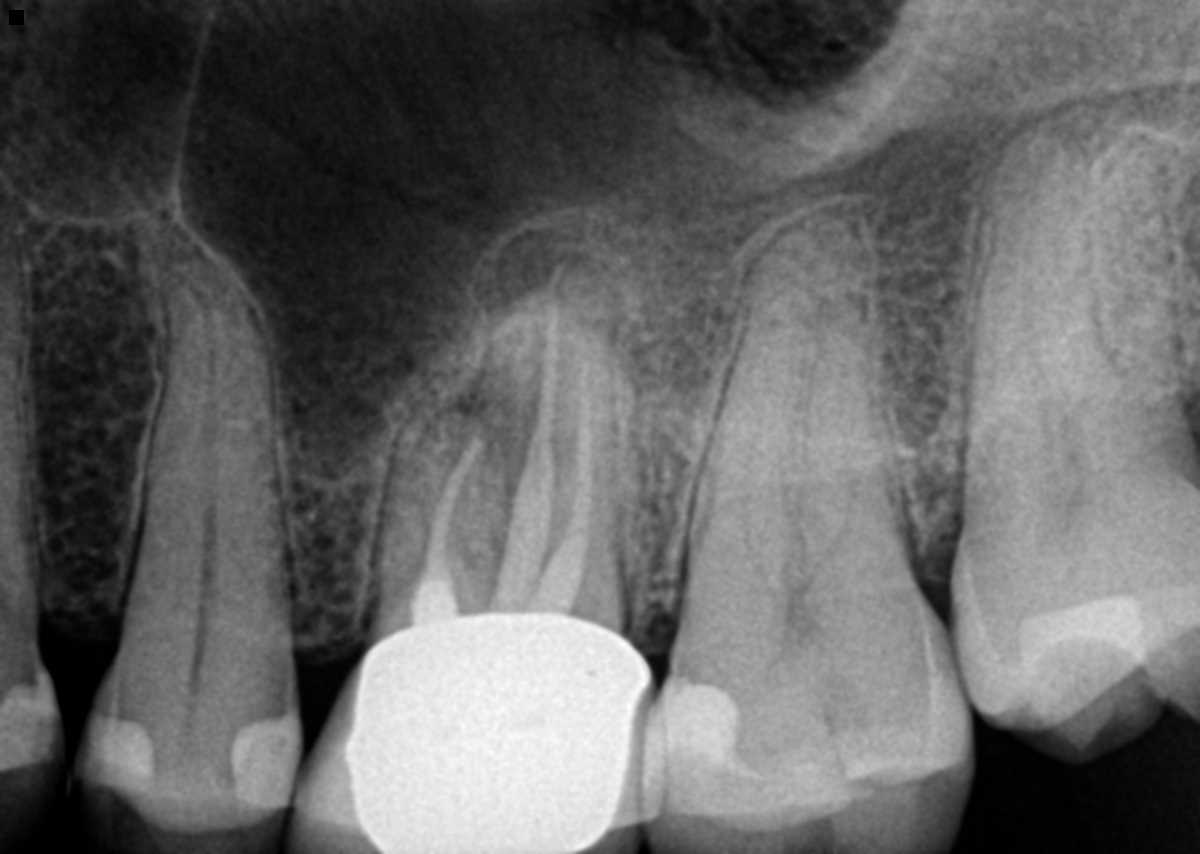Apical Lesion: (477, 220, 643, 316), (431, 371, 527, 475)
Distal Canal: (820, 461, 858, 567)
Distal Root: (1053, 140, 1187, 429), (374, 405, 508, 615), (798, 302, 906, 545), (530, 337, 624, 599)
Main Canal: (175, 270, 221, 629)
Main Root: (114, 254, 297, 635), (0, 248, 40, 608)
Mesial Canal: (740, 384, 771, 581)
Mesial Root: (962, 123, 1123, 493), (690, 291, 813, 570)
Palatal Root: (693, 210, 915, 578), (436, 263, 629, 606)
Root Canal Filling: (489, 261, 567, 614), (528, 363, 593, 612), (425, 437, 485, 580)
